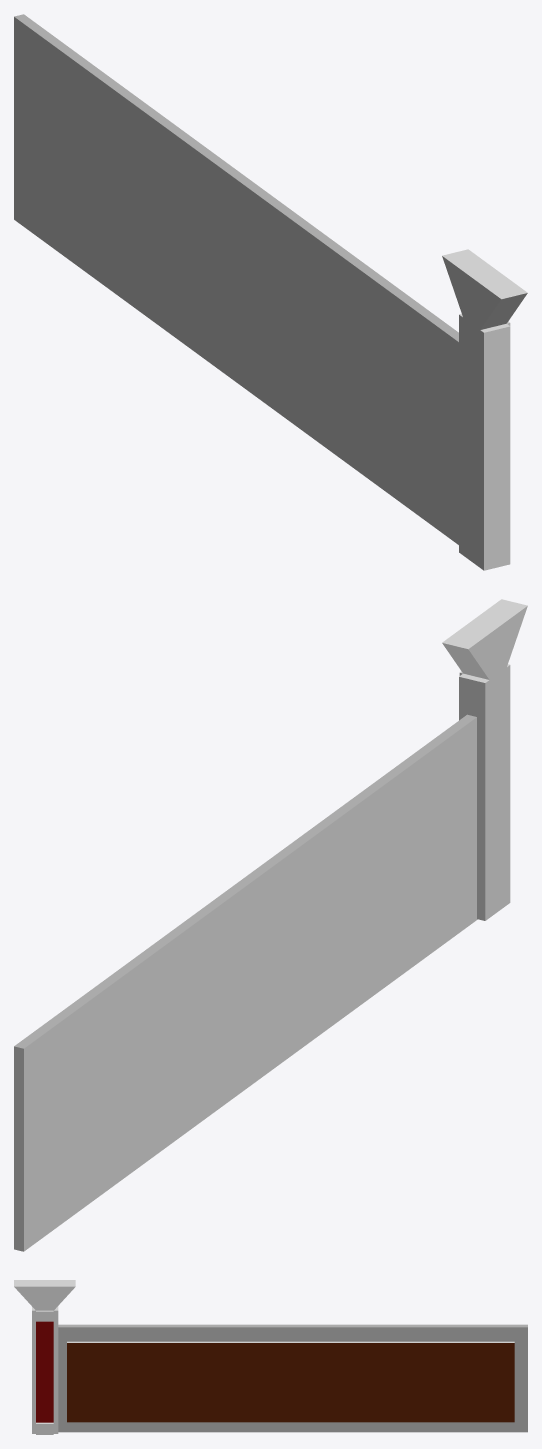
File: wall.fbx
3 views of the same model, one above another, from view 1: azimuth 30°, elevation 25°; view 2: azimuth 150°, elevation 25°; view 3: azimuth 270°, elevation 25° (orthographic). The views are drawn at different scales.
Visible parts, largest first — view 1: pCube3; view 2: pCube3; view 3: pCube3.
Boxes of the visible parts, x1,y1,x2,y2 form: pCube3: [14, 14, 527, 570]; pCube3: [14, 599, 527, 1251]; pCube3: [14, 1280, 527, 1434].
Size of the model in its own units: 2.46 by 22.33 by 70.36.
